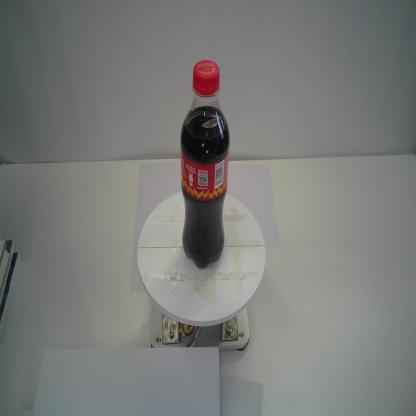Drink: (178, 60, 232, 270)
